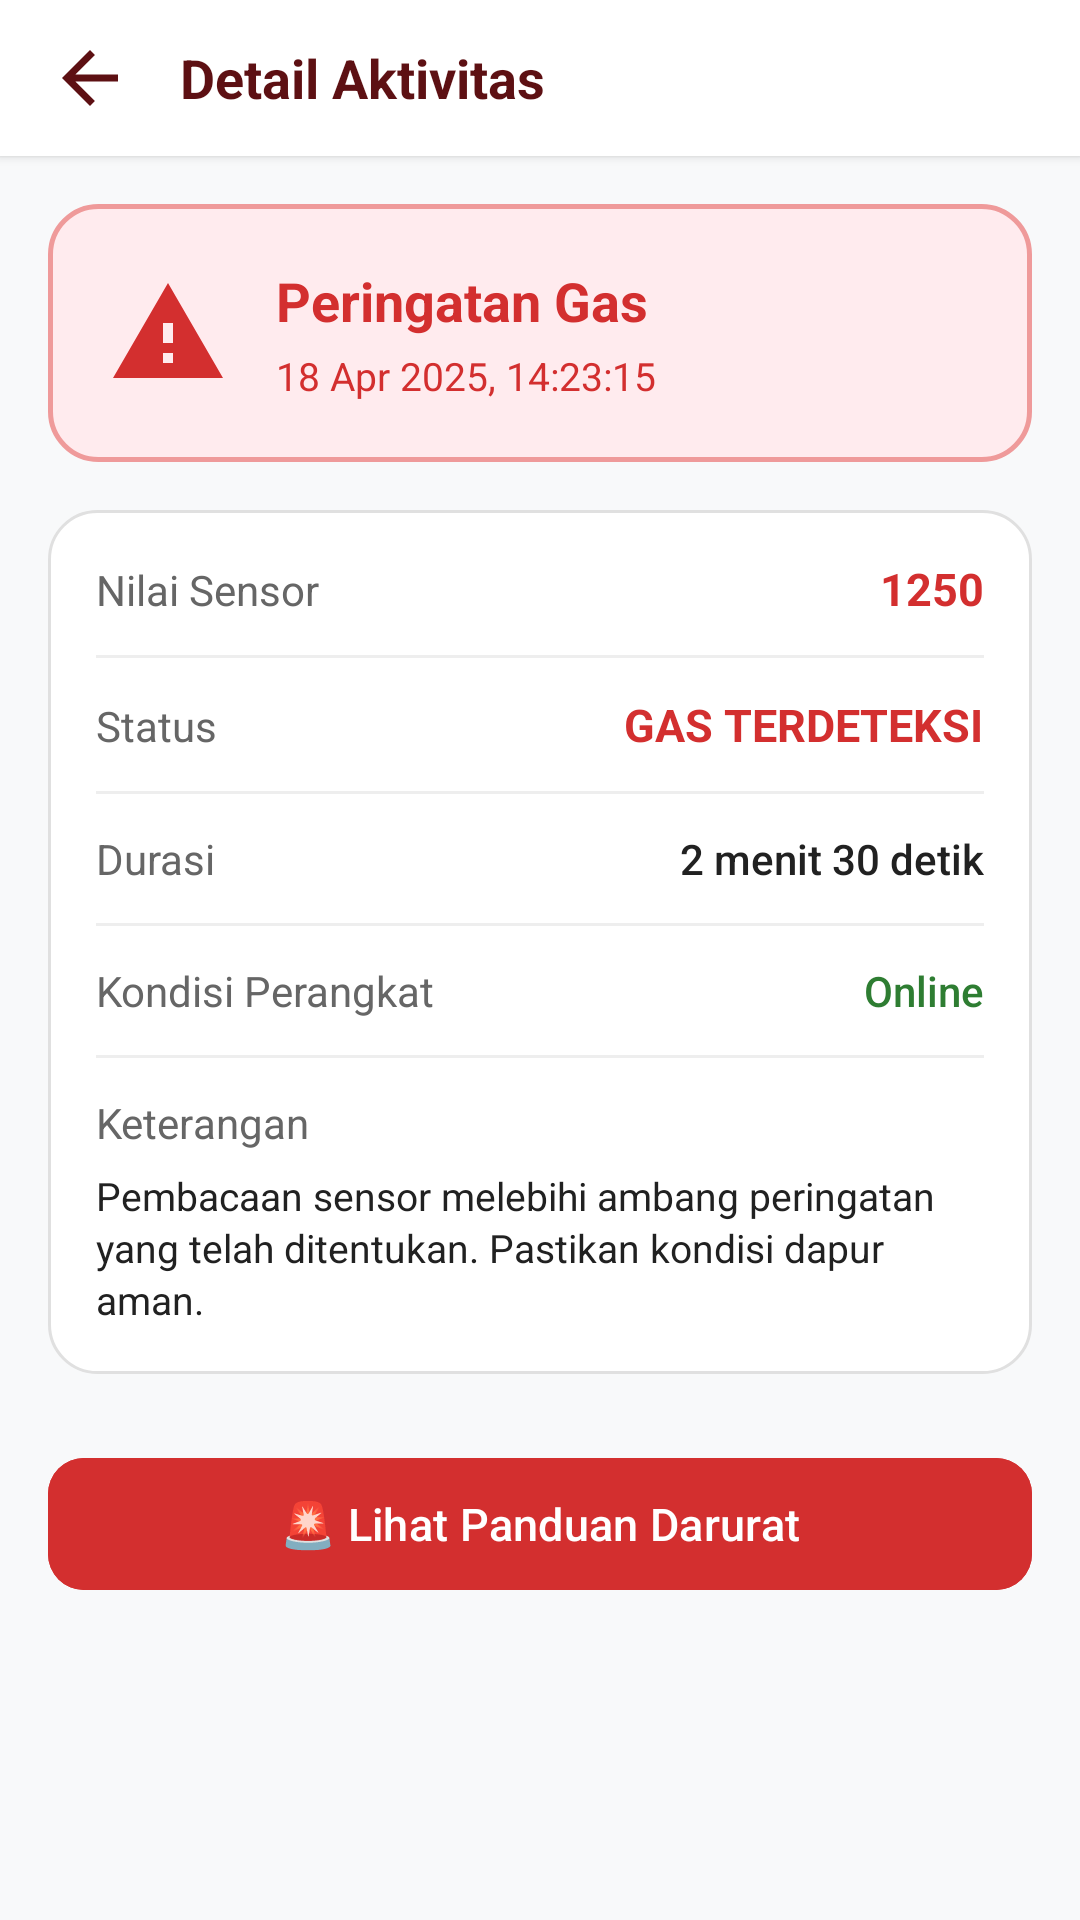

Icon bounding boxes for this 1080 × 1920 phone screenshot, format region(x1, y1, x2, y2):
Kembali: region(62, 50, 118, 106)
